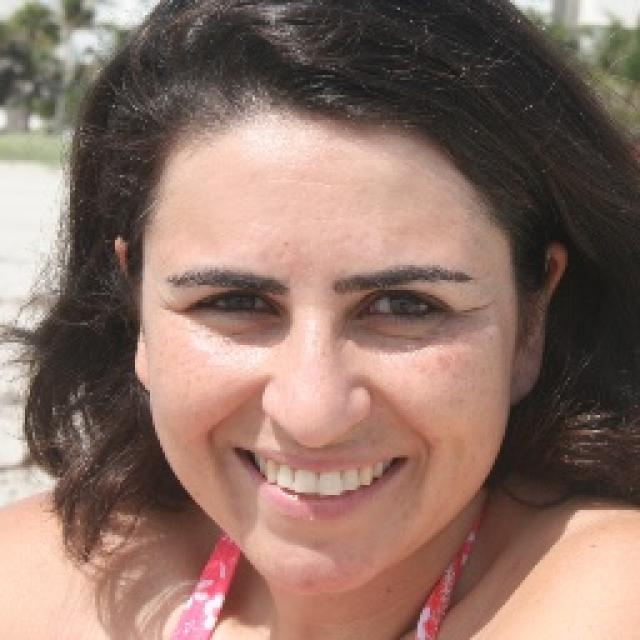earlobe: (505, 240, 567, 404), (112, 233, 152, 392)
